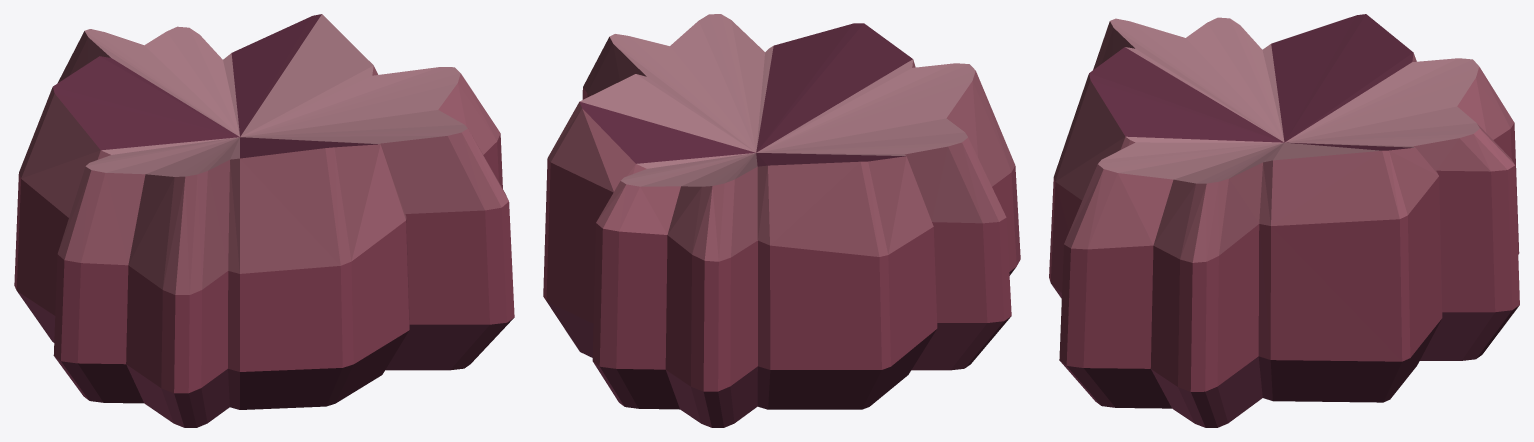
File: reidite_deposit_icon.fbx
The picture shows the model from 3 angles, left to right: view 1: azimuth 30°, elevation 25°; view 2: azimuth 150°, elevation 25°; view 3: azimuth 270°, elevation 25°; orthographic projection.
Visible parts, largest first — view 1: reidite_deposit_icon_body; view 2: reidite_deposit_icon_body; view 3: reidite_deposit_icon_body.
Boxes of the visible parts, bbox=[...] form: reidite_deposit_icon_body: bbox=[14, 14, 514, 427]; reidite_deposit_icon_body: bbox=[543, 14, 1020, 427]; reidite_deposit_icon_body: bbox=[1049, 14, 1519, 427].
Size of the model in its own units: 4 by 2.25 by 3.71.
1 material, 1 textured.
